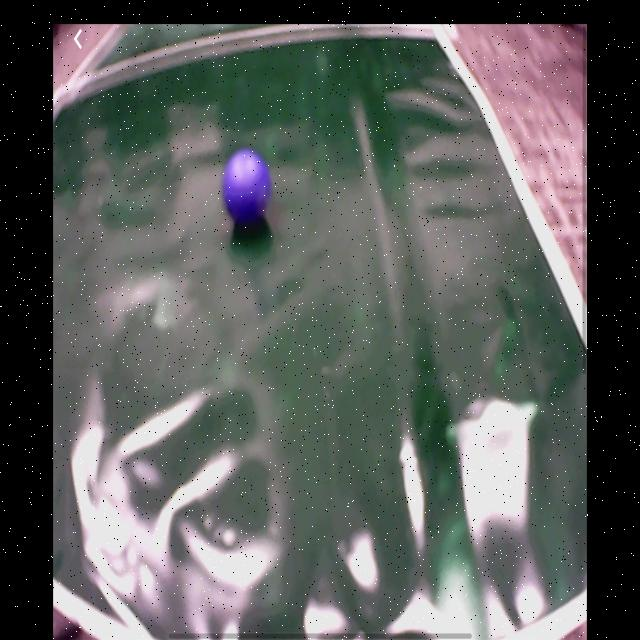ball: (223, 149, 273, 225)
